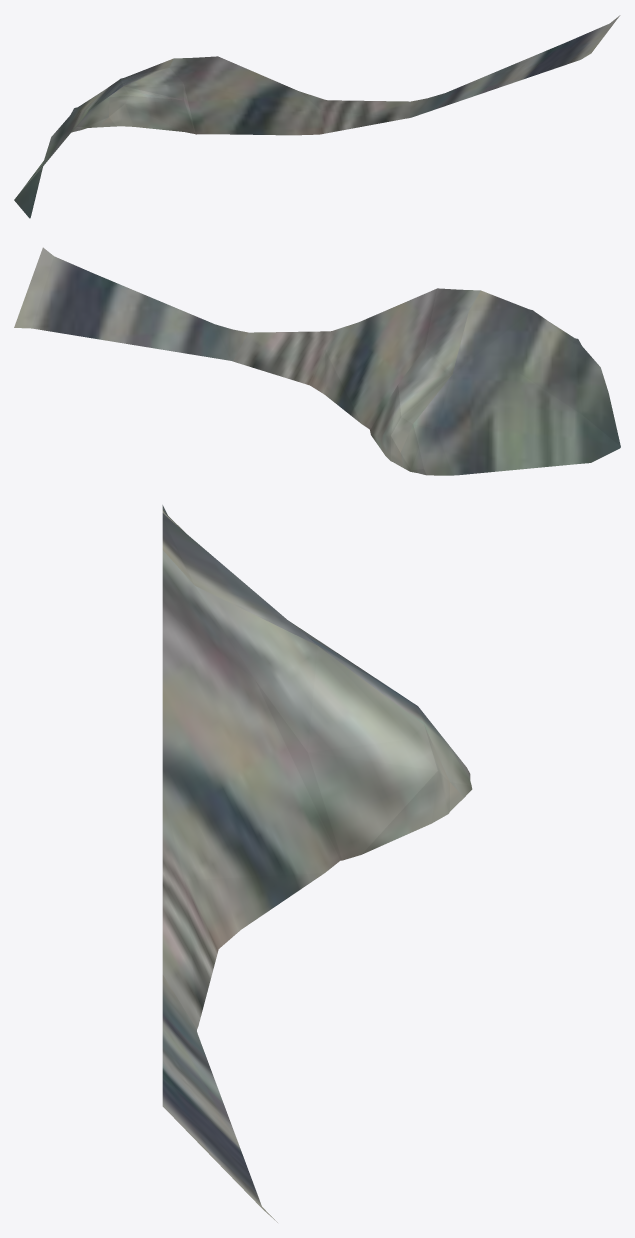
The model's file is Tile_+002_+007_L21_0000100.glb.
3 renders of one model, top to bottom at view 1: azimuth 30°, elevation 25°; view 2: azimuth 150°, elevation 25°; view 3: azimuth 270°, elevation 25°, orthographic. The views are drawn at different scales.
Visible parts, largest first — view 1: rtc; view 2: rtc; view 3: rtc.
Part boxes in pixels (x1,y1,x2,y2): rtc: (14, 15, 620, 218); rtc: (14, 247, 620, 475); rtc: (162, 505, 472, 1222).
Size of the model in its own units: 24.27 by 4.94 by 5.63.
1 material, 1 textured.
